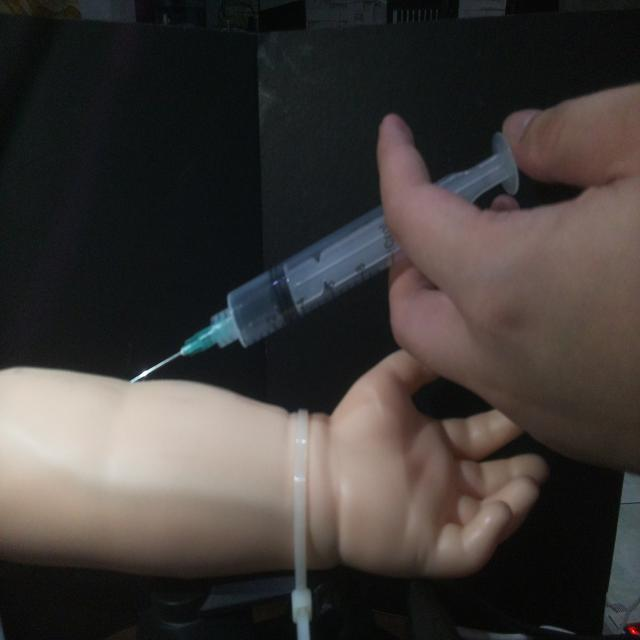22deg: (125, 127, 522, 386)
